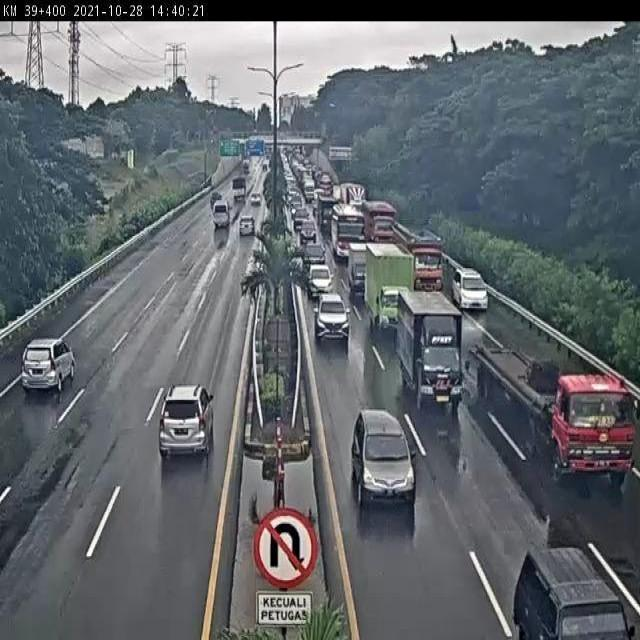big bus: (331, 207, 365, 260)
big truck: (470, 326, 639, 486)
car: (351, 408, 419, 503), (153, 385, 213, 460), (21, 338, 80, 393), (313, 292, 350, 340), (452, 268, 492, 311), (308, 262, 332, 294), (301, 242, 327, 270), (238, 214, 256, 234)
mid truck: (390, 217, 442, 291)
small bus: (211, 203, 232, 232)
small truck: (397, 287, 461, 400), (359, 233, 405, 320), (347, 244, 365, 291)
